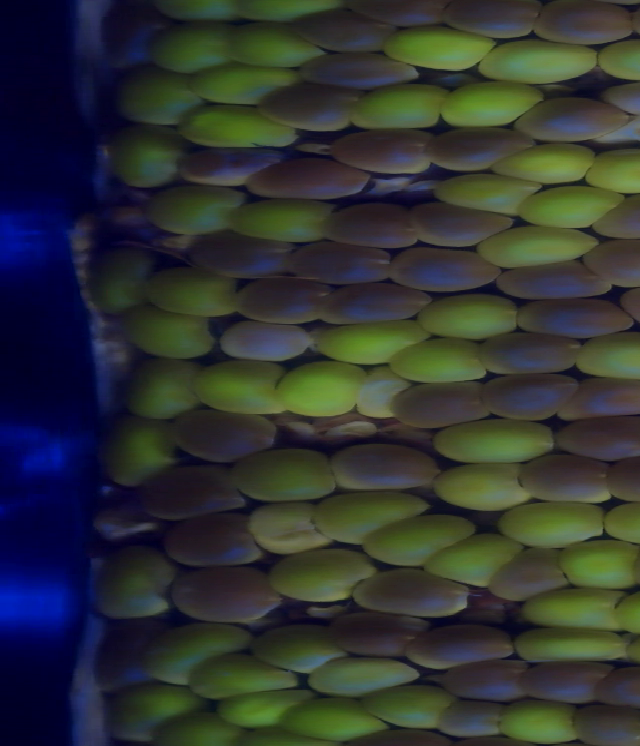fluorescent: (138, 614, 267, 693), (90, 405, 191, 497), (82, 544, 187, 626), (307, 486, 443, 549), (425, 411, 567, 471), (222, 440, 345, 508), (355, 509, 483, 573), (469, 33, 612, 90), (95, 679, 213, 746), (112, 300, 229, 367), (379, 17, 504, 79), (173, 99, 308, 156), (139, 176, 257, 240), (268, 355, 375, 425), (188, 356, 296, 425), (423, 459, 545, 520), (408, 285, 529, 346), (260, 547, 382, 607), (430, 75, 554, 133), (99, 119, 192, 196), (309, 313, 441, 367), (475, 220, 609, 273), (178, 649, 308, 703), (108, 59, 212, 126), (247, 617, 354, 682), (423, 525, 528, 591), (513, 180, 634, 237), (218, 191, 338, 248), (179, 57, 309, 109), (343, 77, 456, 136), (119, 352, 209, 426), (302, 653, 432, 704), (143, 15, 247, 77), (491, 497, 612, 550), (420, 168, 548, 218), (81, 242, 159, 323), (221, 14, 331, 71), (277, 694, 397, 746), (507, 622, 634, 671), (513, 583, 630, 636), (140, 263, 246, 321), (355, 678, 460, 735), (489, 136, 604, 187), (387, 333, 495, 387), (207, 684, 323, 732), (242, 498, 334, 557), (343, 361, 419, 429), (552, 536, 640, 594), (494, 694, 590, 746), (571, 327, 640, 388), (142, 707, 248, 746), (581, 144, 640, 203), (591, 32, 640, 91), (596, 496, 640, 553), (609, 583, 640, 638)
nonfluorescent: (164, 560, 291, 627), (292, 45, 433, 100), (131, 463, 256, 525), (243, 155, 383, 210), (160, 405, 286, 466), (347, 562, 481, 619), (323, 440, 451, 499), (395, 619, 524, 677), (401, 197, 525, 256), (160, 505, 269, 572), (85, 614, 167, 700), (415, 122, 543, 177), (510, 295, 640, 349), (288, 5, 409, 63), (472, 327, 593, 385), (475, 366, 588, 428), (92, 1, 183, 77), (319, 196, 427, 260), (181, 227, 302, 284), (325, 123, 438, 183), (384, 242, 511, 295), (513, 89, 631, 146), (489, 256, 618, 308), (315, 276, 438, 330), (282, 237, 400, 293), (383, 378, 501, 434), (480, 540, 575, 608), (323, 606, 434, 663), (172, 141, 295, 192), (228, 273, 336, 331), (259, 81, 363, 141), (514, 452, 616, 511), (528, 1, 638, 53), (436, 653, 538, 708), (547, 412, 640, 470), (517, 657, 613, 710), (437, 1, 549, 45), (548, 373, 640, 425), (431, 694, 511, 741), (343, 1, 461, 32), (581, 235, 640, 293), (568, 699, 640, 746), (586, 189, 640, 246), (589, 661, 640, 711), (598, 451, 640, 511), (599, 74, 640, 125)
